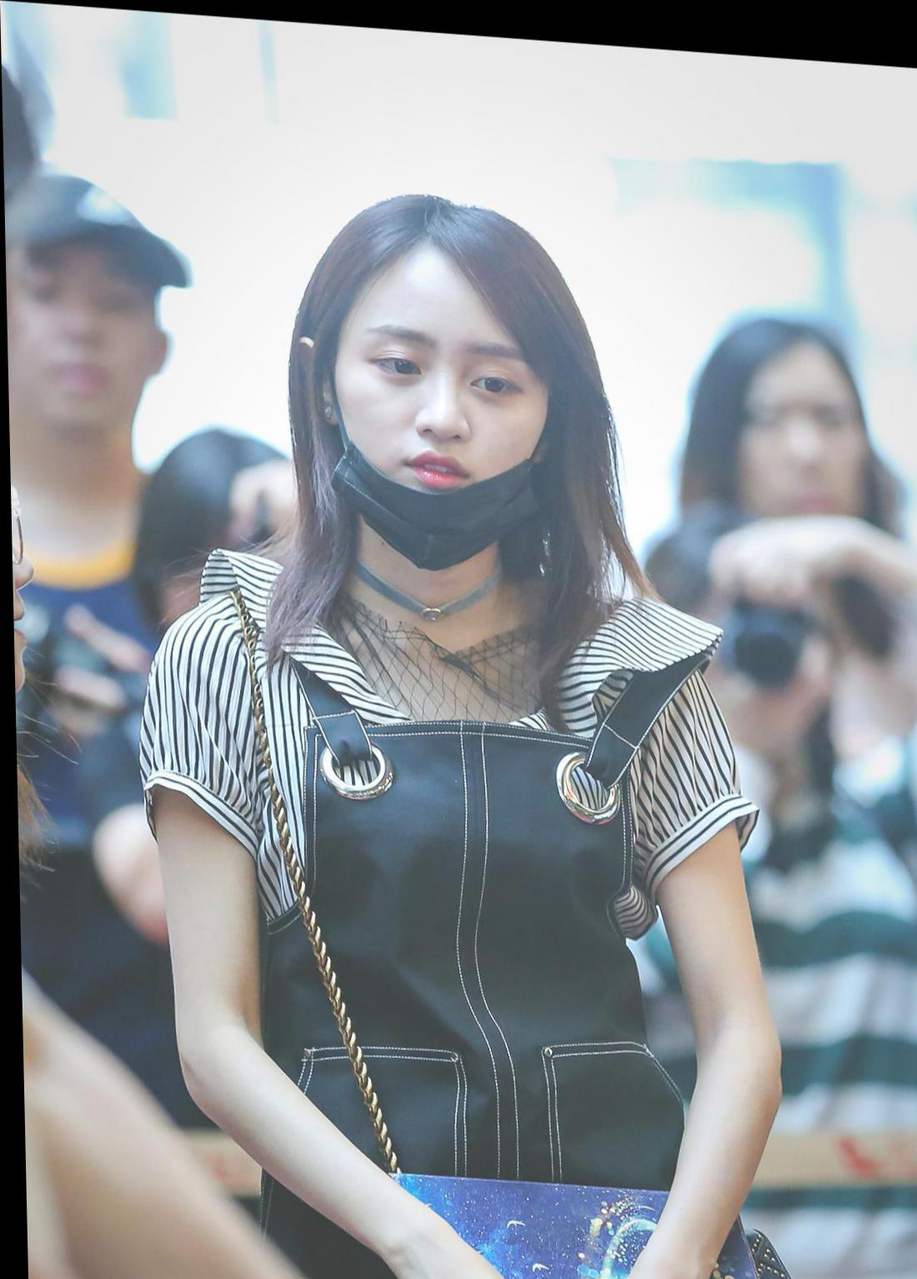NONE: (5, 254, 151, 425), (736, 379, 873, 531)
WRONG: (320, 306, 556, 551)
